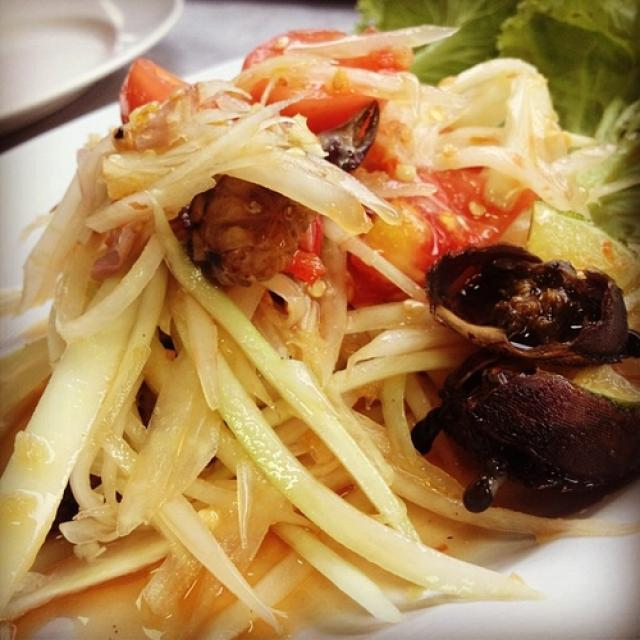蔬菜料理: (23, 23, 609, 629)
